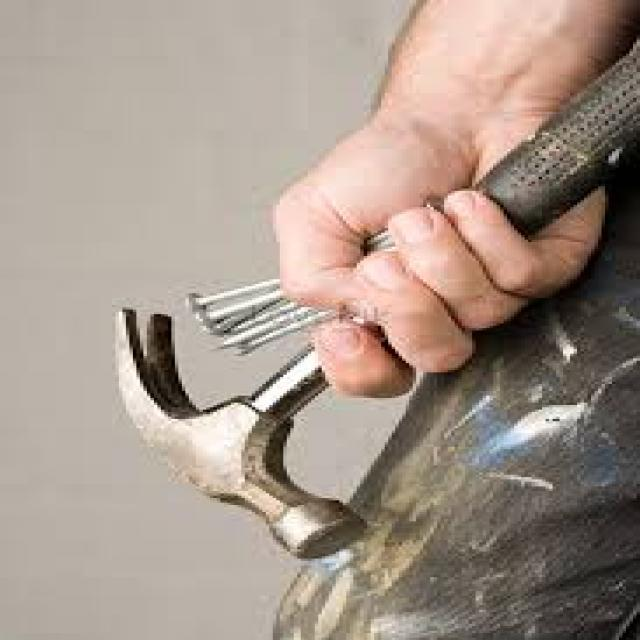hammer: (105, 0, 640, 566)
